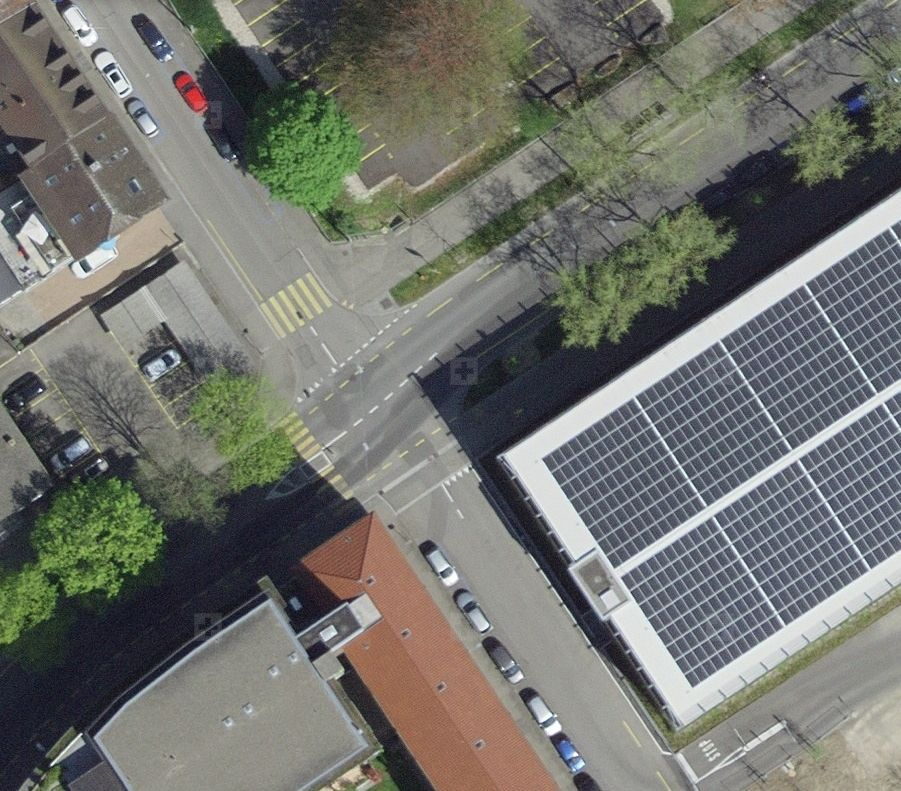solar: (541, 219, 901, 685)
